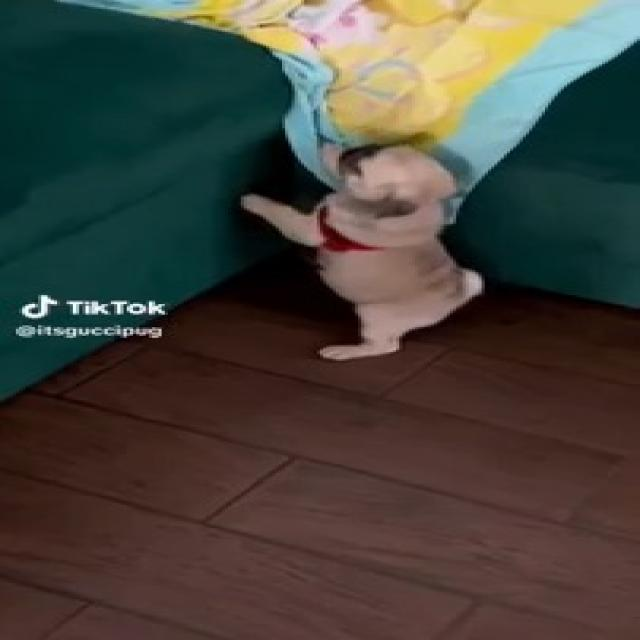dogs: (245, 144, 524, 362)
